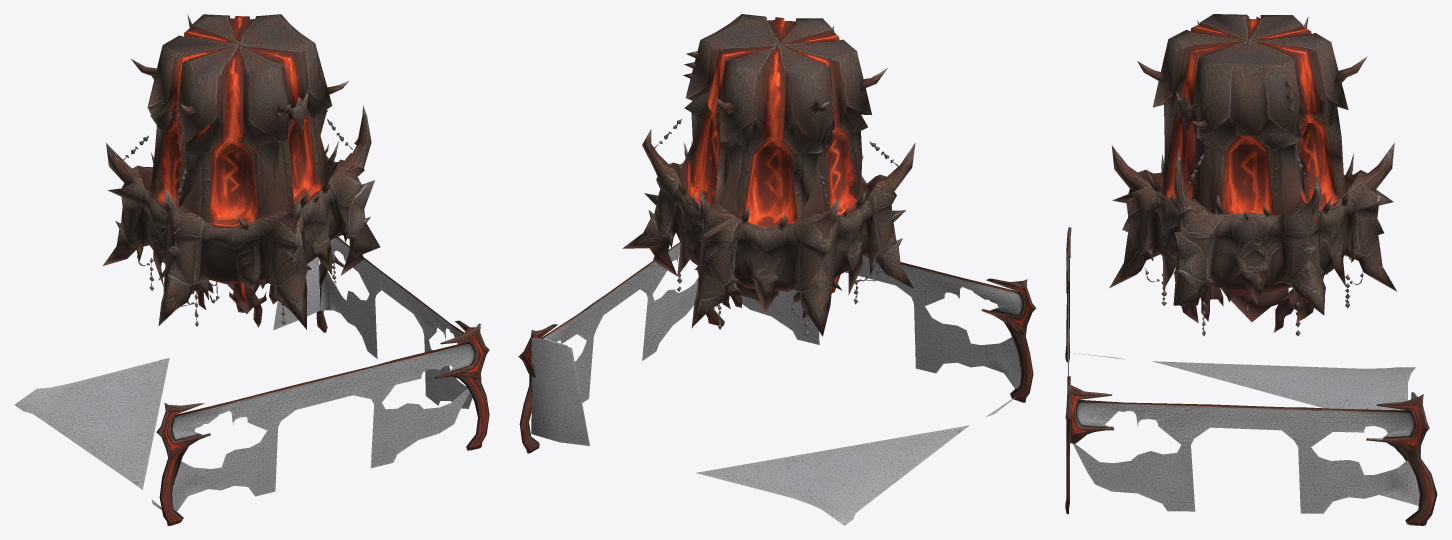
File: 019e2eff-e62a-7cfd-a32e-caa3310b8b93.glb
3 views of the same model, side by side, from view 1: azimuth 30°, elevation 25°; view 2: azimuth 150°, elevation 25°; view 3: azimuth 270°, elevation 25° (orthographic). The views are drawn at different scales.
Visible parts, largest first — view 1: tripo_node_9869a735-7541-4aa3-9698-b69958efebf9; view 2: tripo_node_9869a735-7541-4aa3-9698-b69958efebf9; view 3: tripo_node_9869a735-7541-4aa3-9698-b69958efebf9.
Part boxes in pixels (x1=…): tripo_node_9869a735-7541-4aa3-9698-b69958efebf9: x1=14, y1=14, x2=489, y2=525; tripo_node_9869a735-7541-4aa3-9698-b69958efebf9: x1=518, y1=14, x2=1036, y2=525; tripo_node_9869a735-7541-4aa3-9698-b69958efebf9: x1=1065, y1=14, x2=1437, y2=525.
Size of the model in its own units: 0.9199 by 0.998 by 0.834.
Materials: 1 (1 with a texture image).
